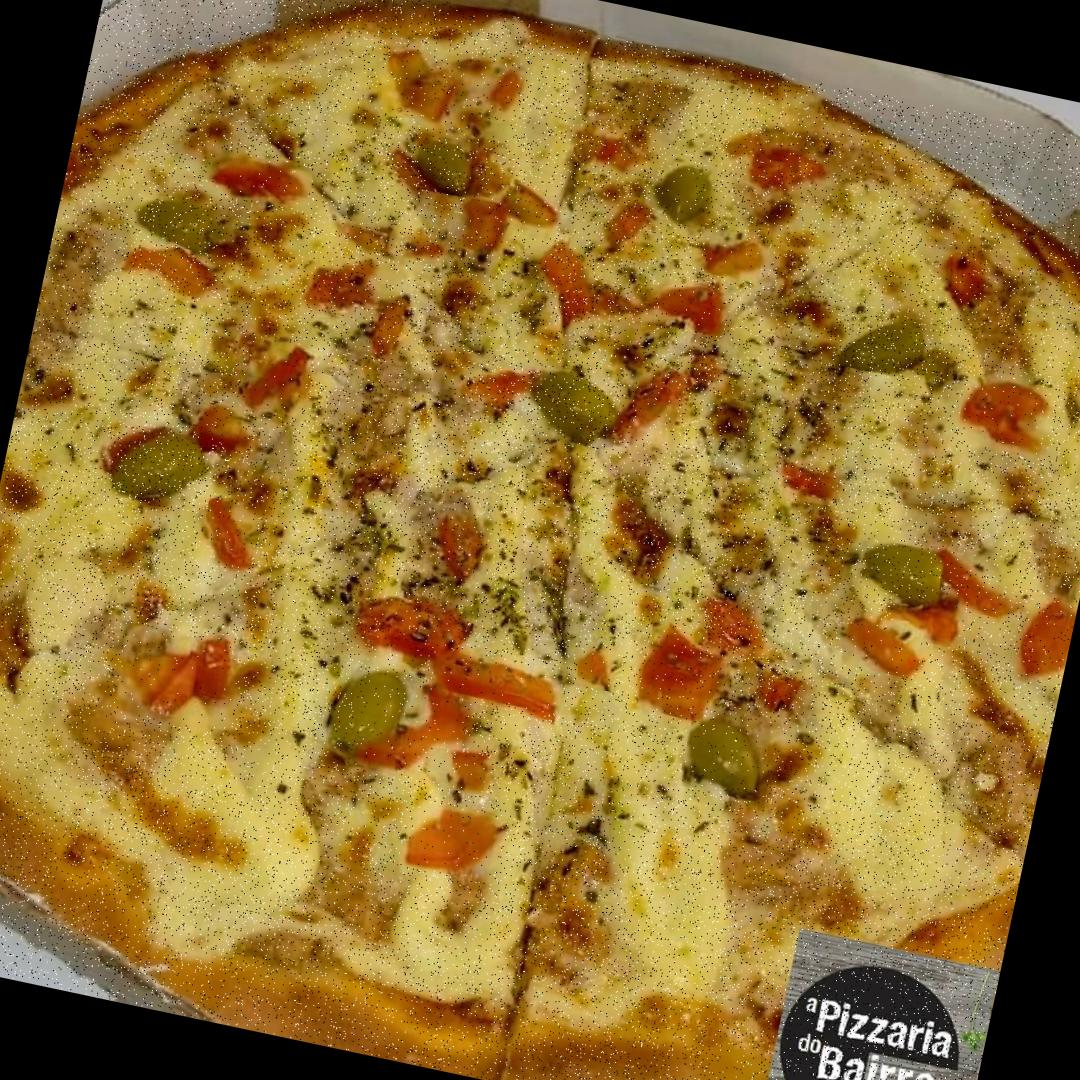Olives: (522, 360, 628, 452), (324, 664, 412, 769), (678, 711, 777, 803), (111, 426, 213, 514), (835, 308, 933, 383), (858, 536, 954, 611), (132, 189, 226, 257), (410, 135, 480, 200), (654, 159, 716, 230)
Pizza: (0, 0, 1080, 1080)
Tomatoes: (114, 624, 248, 734), (378, 44, 525, 142), (359, 677, 471, 787), (347, 586, 474, 676), (636, 618, 736, 726), (455, 173, 564, 267), (430, 647, 567, 714), (400, 800, 506, 884), (956, 373, 1058, 458), (112, 237, 227, 311), (524, 236, 612, 332), (610, 367, 691, 455), (1013, 583, 1080, 689), (422, 504, 501, 592), (936, 545, 1026, 622), (208, 151, 314, 212), (840, 610, 930, 681), (241, 336, 315, 419), (742, 136, 832, 200), (299, 256, 389, 318), (646, 276, 731, 338), (197, 499, 262, 573), (697, 592, 770, 655), (888, 596, 964, 650), (936, 251, 997, 315), (458, 357, 526, 414), (753, 668, 813, 726), (704, 232, 768, 284), (601, 196, 654, 256), (194, 402, 250, 452), (371, 303, 414, 363), (780, 466, 840, 508), (576, 646, 622, 693), (448, 754, 492, 796), (596, 135, 640, 172)
